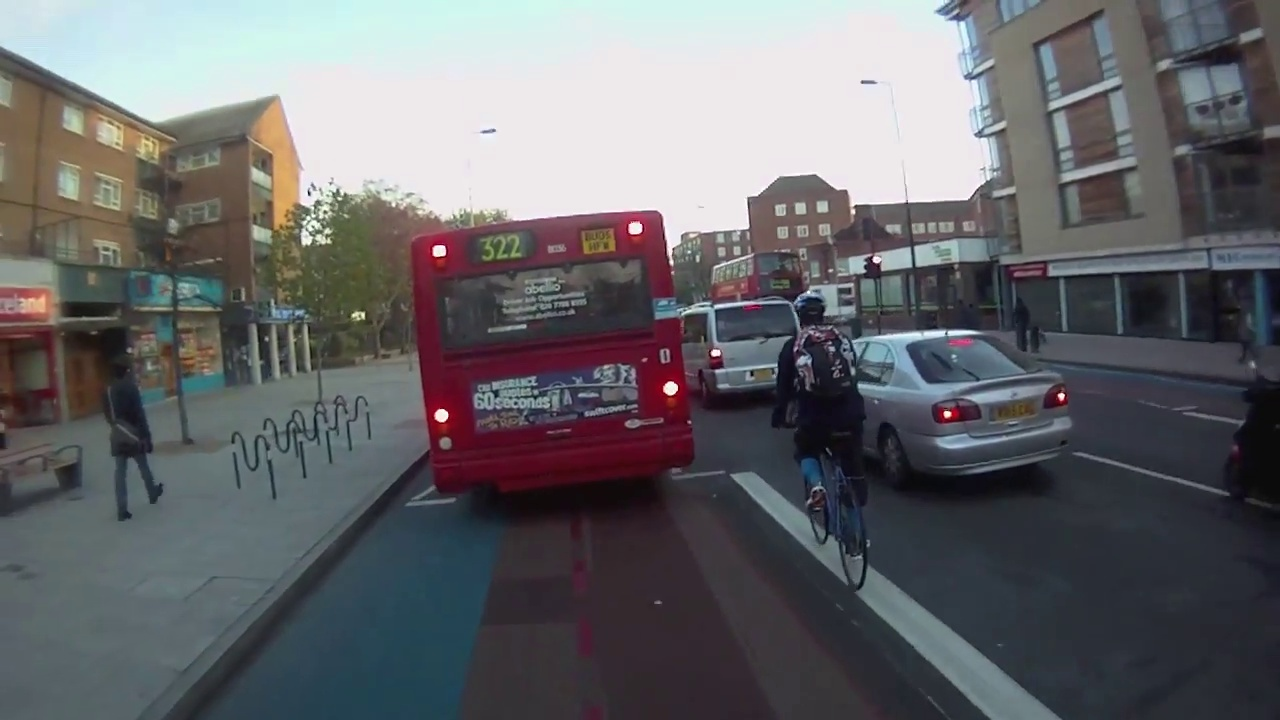cyclist_back: (774, 286, 878, 602)
